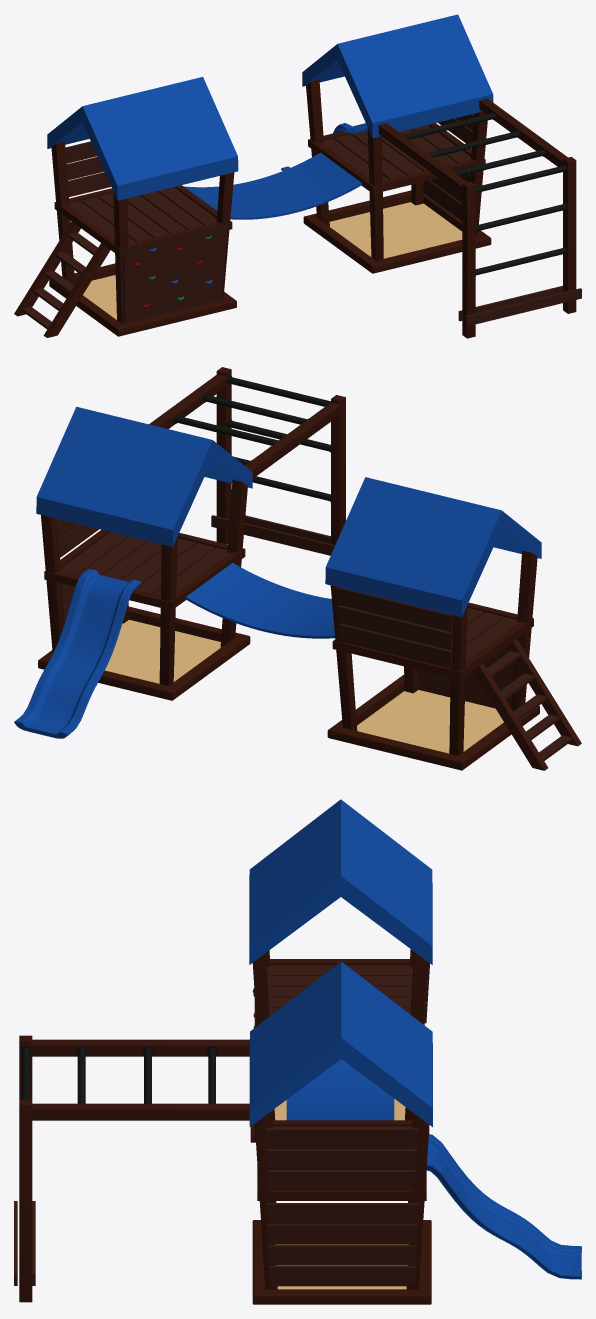
The model's file is Playground_2.FBX.
3 views of the same model, one above another, from view 1: azimuth 30°, elevation 25°; view 2: azimuth 150°, elevation 25°; view 3: azimuth 270°, elevation 25° (orthographic). The views are drawn at different scales.
Parts seen in each view (by area): view 1: Star004, Star005, Base004, Box035, Bridge, Panels010, Steps, Base003, Panels013, Box074, Support016, Box075 (+20 smaller); view 2: Star004, Star005, Slide001, Base003, Base004, Bridge, Panels012, Panels013, Steps, Box074, Box075, Support029 (+19 smaller); view 3: Star004, Star005, Panels016, Panels015, Slide001, Base004, Bridge, Support019, Support018, Panels010, Box075, Support017 (+6 smaller).
Boxes of the visible parts, x1=… form: Star004: x1=47, y1=77, x2=238, y2=200; Star005: x1=302, y1=14, x2=493, y2=138; Base004: x1=303, y1=190, x2=491, y2=273; Box035: x1=123, y1=225, x2=227, y2=323; Bridge: x1=184, y1=152, x2=361, y2=219; Panels010: x1=68, y1=187, x2=216, y2=243; Steps: x1=14, y1=221, x2=110, y2=337; Base003: x1=49, y1=263, x2=236, y2=336; Panels013: x1=322, y1=125, x2=470, y2=181; Box074: x1=54, y1=185, x2=232, y2=256; Support016: x1=462, y1=181, x2=475, y2=338; Box075: x1=308, y1=123, x2=485, y2=193; Star004: x1=325, y1=477, x2=541, y2=617; Star005: x1=36, y1=406, x2=252, y2=546; Slide001: x1=14, y1=569, x2=141, y2=738; Base003: x1=327, y1=674, x2=539, y2=770; Base004: x1=38, y1=606, x2=250, y2=700; Bridge: x1=185, y1=562, x2=369, y2=638; Panels012: x1=336, y1=587, x2=452, y2=668; Panels013: x1=61, y1=532, x2=229, y2=596; Steps: x1=472, y1=638, x2=581, y2=770; Box074: x1=332, y1=602, x2=533, y2=679; Box075: x1=44, y1=529, x2=245, y2=610; Support029: x1=159, y1=536, x2=177, y2=685; Star004: x1=249, y1=799, x2=432, y2=964; Star005: x1=249, y1=961, x2=432, y2=1126; Panels016: x1=266, y1=1203, x2=418, y2=1286; Panels015: x1=265, y1=1128, x2=418, y2=1190; Slide001: x1=412, y1=1134, x2=581, y2=1279; Base004: x1=252, y1=1220, x2=431, y2=1304; Bridge: x1=286, y1=1059, x2=394, y2=1120; Support019: x1=31, y1=1103, x2=249, y2=1120; Support018: x1=30, y1=1039, x2=249, y2=1056; Panels010: x1=267, y1=965, x2=412, y2=1015; Box075: x1=257, y1=1120, x2=426, y2=1200; Support017: x1=19, y1=1099, x2=32, y2=1302.
Size of the model in its own units: 105 by 92.77 by 48.6.
